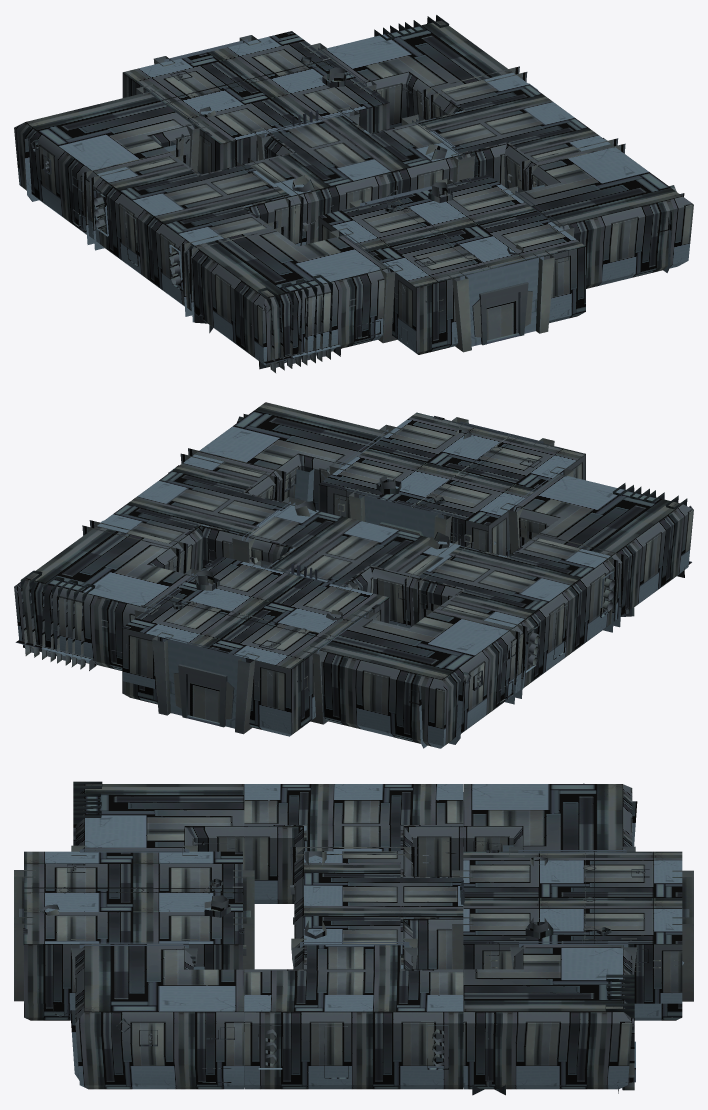
The model's file is Combined_Mesh_root_scene__21_87b8b529__zombies2_diffuse_03_64bb9bc2_c1f257.obj.
3 renders of one model, top to bottom at view 1: azimuth 30°, elevation 25°; view 2: azimuth 150°, elevation 25°; view 3: azimuth 270°, elevation 25°, orthographic. The views are drawn at different scales.
Size of the model in its own units: 52.07 by 9.64 by 62.1.
Materials: 148 (148 with a texture image).
